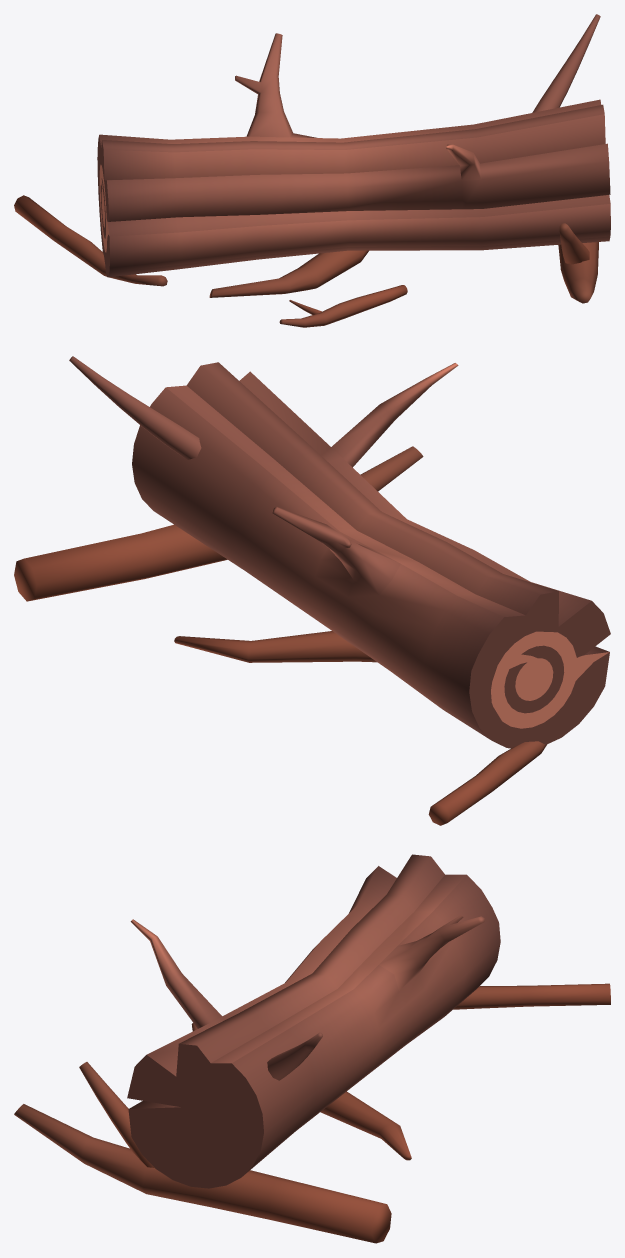
File: Log_01.fbx
The picture shows the model from 3 angles, top to bottom: view 1: azimuth 30°, elevation 25°; view 2: azimuth 150°, elevation 25°; view 3: azimuth 270°, elevation 25°; orthographic projection. The views are drawn at different scales.
Parts seen in each view (by area): view 1: Log_01; view 2: Log_01; view 3: Log_01.
Boxes of the visible parts, x1,y1,x2,y2 form: Log_01: (14, 14, 610, 327); Log_01: (14, 356, 610, 825); Log_01: (14, 854, 610, 1243).
Size of the model in its own units: 328 by 122 by 314.
